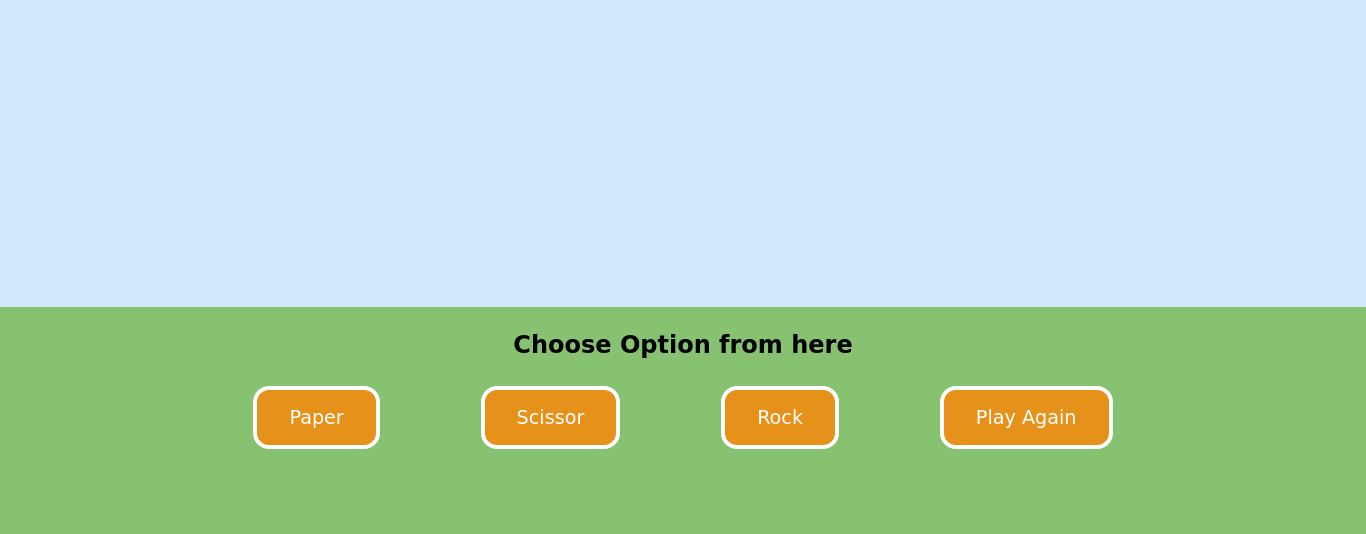
Test case: <ComputerVsComputer /> › should win Human
The width and height of the screenshot is (1366, 534).
Step 1. Click the button with test id "test-paper_btn" → (317, 418), box x1=253 y1=386 x2=380 y2=449
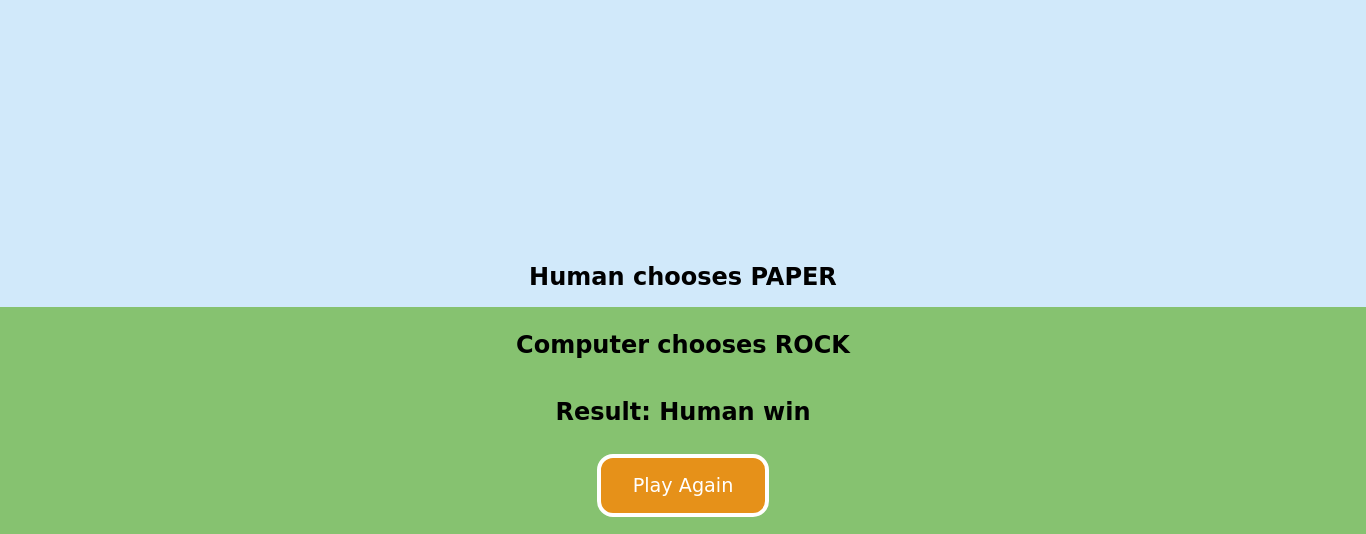
Expected: the heading with test id "game-result" reads "Result: Human win", x1=555 y1=398 x2=810 y2=426
